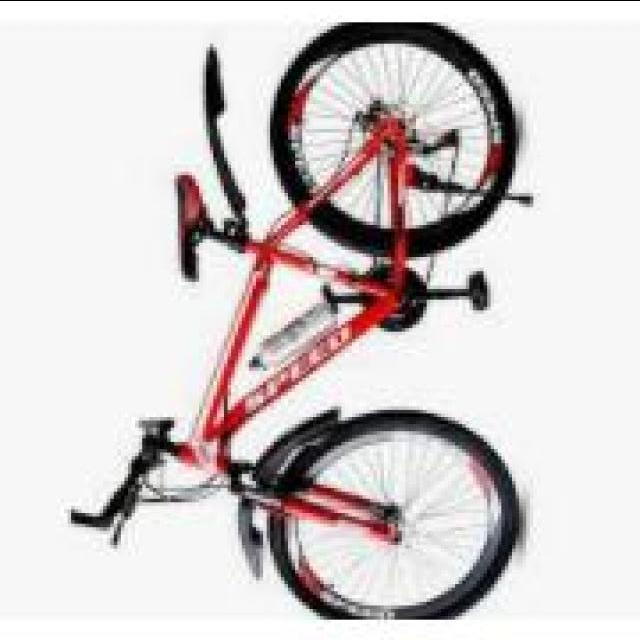bicycle: (76, 37, 528, 623)
